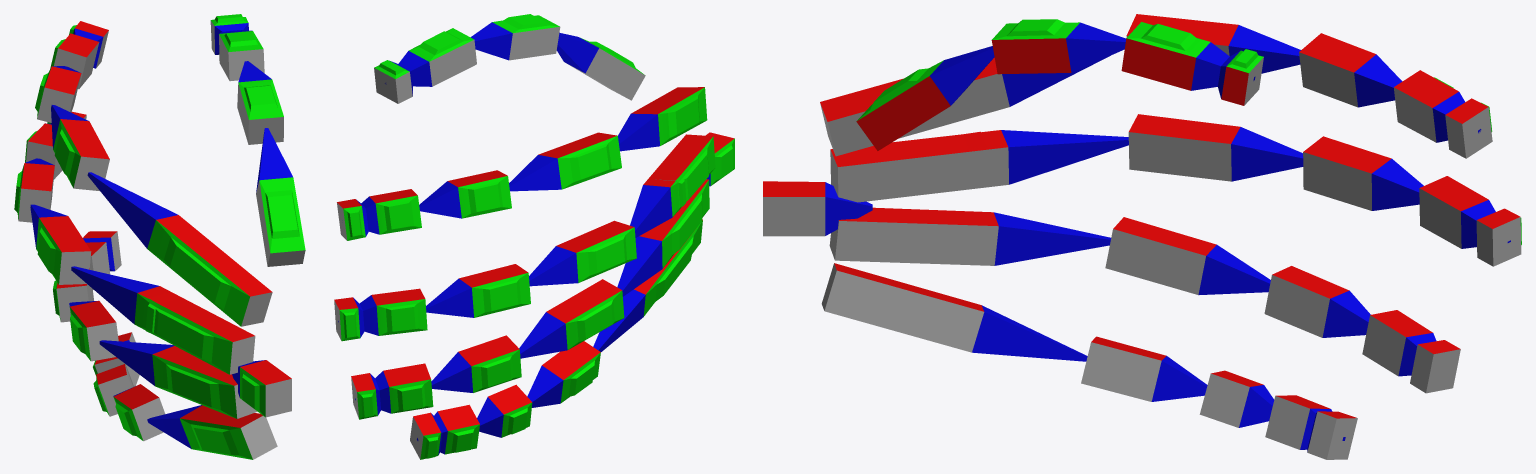
Rendered from openxr_proxy_left.glb.
3 renders of one model, left to right at view 1: azimuth 30°, elevation 25°; view 2: azimuth 150°, elevation 25°; view 3: azimuth 270°, elevation 25°, orthographic. The views are drawn at different scales.
Parts seen in each view (by area): view 1: Index_Metacarpal_L_MSH, Middle_Metacarpal_L_MSH, Ring_Metacarpal_L_MSH, Thumb_Metacarpal_L_MSH, Little_Metacarpal_L_MSH, Index_Proximal_L_MSH, Middle_Proximal_L_MSH, Thumb_Proximal_L_MSH, Wrist_L_MSH, Ring_Proximal_L_MSH, Little_Proximal_L_MSH, Middle_Intermediate_L_MSH (+12 smaller); view 2: Ring_Proximal_L_MSH, Middle_Proximal_L_MSH, Middle_Metacarpal_L_MSH, Index_Proximal_L_MSH, Middle_Intermediate_L_MSH, Index_Metacarpal_L_MSH, Ring_Metacarpal_L_MSH, Ring_Intermediate_L_MSH, Index_Intermediate_L_MSH, Thumb_Proximal_L_MSH, Little_Proximal_L_MSH, Thumb_Distal_L_MSH (+14 smaller); view 3: Middle_Metacarpal_L_MSH, Ring_Metacarpal_L_MSH, Little_Metacarpal_L_MSH, Middle_Proximal_L_MSH, Ring_Proximal_L_MSH, Index_Metacarpal_L_MSH, Middle_Intermediate_L_MSH, Thumb_Metacarpal_L_MSH, Thumb_Proximal_L_MSH, Little_Proximal_L_MSH, Ring_Intermediate_L_MSH, Thumb_Distal_L_MSH (+13 smaller).
Part boxes in pixels (x1,y1,x2,y2): Index_Metacarpal_L_MSH: (87,172,272,326); Middle_Metacarpal_L_MSH: (71,266,255,374); Ring_Metacarpal_L_MSH: (99,340,257,418); Thumb_Metacarpal_L_MSH: (256,128,305,266); Little_Metacarpal_L_MSH: (147,405,277,459); Index_Proximal_L_MSH: (51,105,109,190); Middle_Proximal_L_MSH: (30,204,91,284); Thumb_Proximal_L_MSH: (237,61,283,144); Wrist_L_MSH: (232,360,291,417); Ring_Proximal_L_MSH: (69,300,118,361); Little_Proximal_L_MSH: (113,384,165,441); Middle_Intermediate_L_MSH: (14,158,54,222); Ring_Proximal_L_MSH: (519,279,624,358); Middle_Proximal_L_MSH: (529,220,636,286); Middle_Metacarpal_L_MSH: (630,134,715,237); Index_Proximal_L_MSH: (509,132,621,191); Middle_Intermediate_L_MSH: (426,264,530,317); Index_Metacarpal_L_MSH: (618,87,707,151); Ring_Metacarpal_L_MSH: (617,179,709,296); Ring_Intermediate_L_MSH: (431,335,521,392); Index_Intermediate_L_MSH: (419,170,511,218); Thumb_Proximal_L_MSH: (470,14,560,60); Little_Proximal_L_MSH: (527,341,600,407); Thumb_Distal_L_MSH: (385,28,476,86); Middle_Metacarpal_L_MSH: (830,130,1128,202); Ring_Metacarpal_L_MSH: (829,207,1111,265); Little_Metacarpal_L_MSH: (821,263,1087,361); Middle_Proximal_L_MSH: (1128,114,1303,181); Ring_Proximal_L_MSH: (1105,217,1270,295); Index_Metacarpal_L_MSH: (820,56,1109,156); Middle_Intermediate_L_MSH: (1303,136,1423,210); Thumb_Metacarpal_L_MSH: (856,46,994,150); Thumb_Proximal_L_MSH: (991,19,1125,74); Little_Proximal_L_MSH: (1081,336,1207,401); Ring_Intermediate_L_MSH: (1264,266,1370,337); Thumb_Distal_L_MSH: (1121,22,1255,90).
Bounding box in the file's own units: 7.5 × 11.67 × 17.51.
